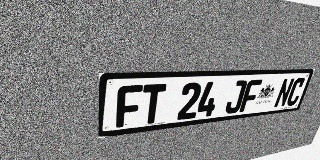2: (177, 82, 202, 120)
4: (196, 81, 221, 118)
C: (285, 77, 306, 107)
F: (116, 85, 143, 128), (239, 79, 262, 112)
J: (224, 80, 248, 114)
N: (273, 78, 295, 108)
T: (140, 84, 167, 125)
